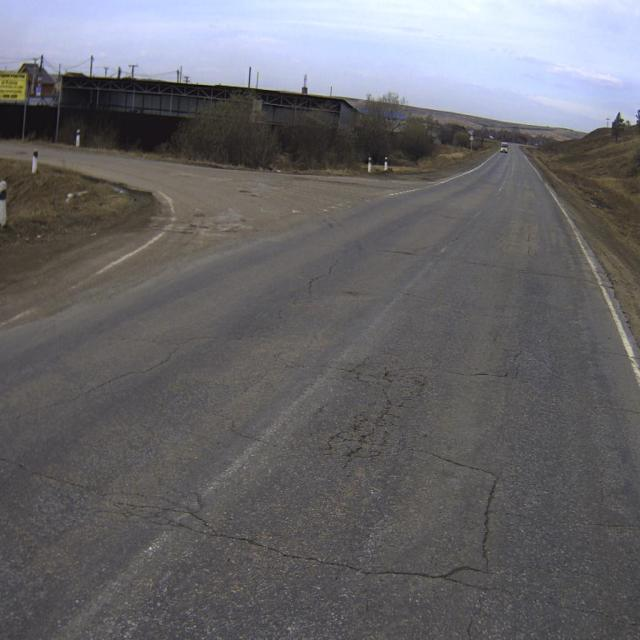road: (0, 143, 640, 639)
